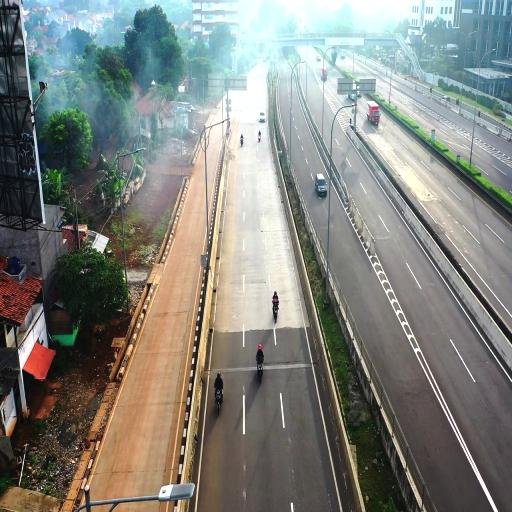vehicle: (314, 172, 328, 198), (366, 101, 380, 127)
